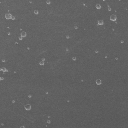corrosion: (107, 14, 118, 23), (23, 103, 33, 112), (96, 17, 105, 27), (3, 12, 14, 20), (38, 58, 47, 66), (1, 66, 10, 74), (95, 2, 103, 10), (95, 78, 102, 86), (33, 8, 40, 16), (72, 23, 79, 31), (20, 31, 26, 39), (71, 55, 77, 62), (65, 34, 71, 40), (1, 57, 7, 63), (27, 93, 32, 99), (46, 119, 52, 124), (94, 48, 99, 54), (6, 31, 11, 36), (46, 1, 52, 5)
